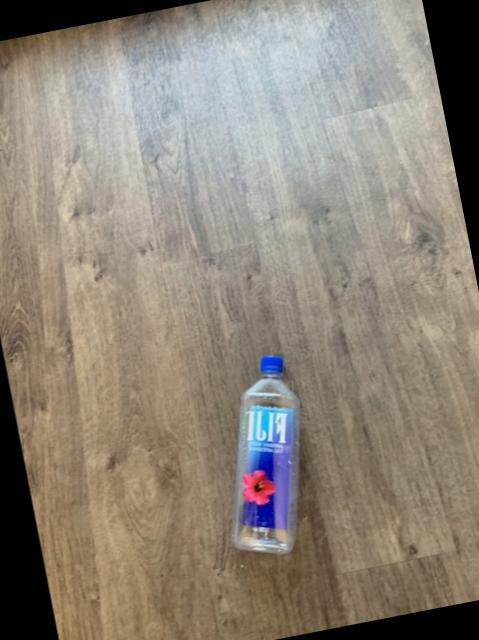plastic: (231, 353, 299, 551)
